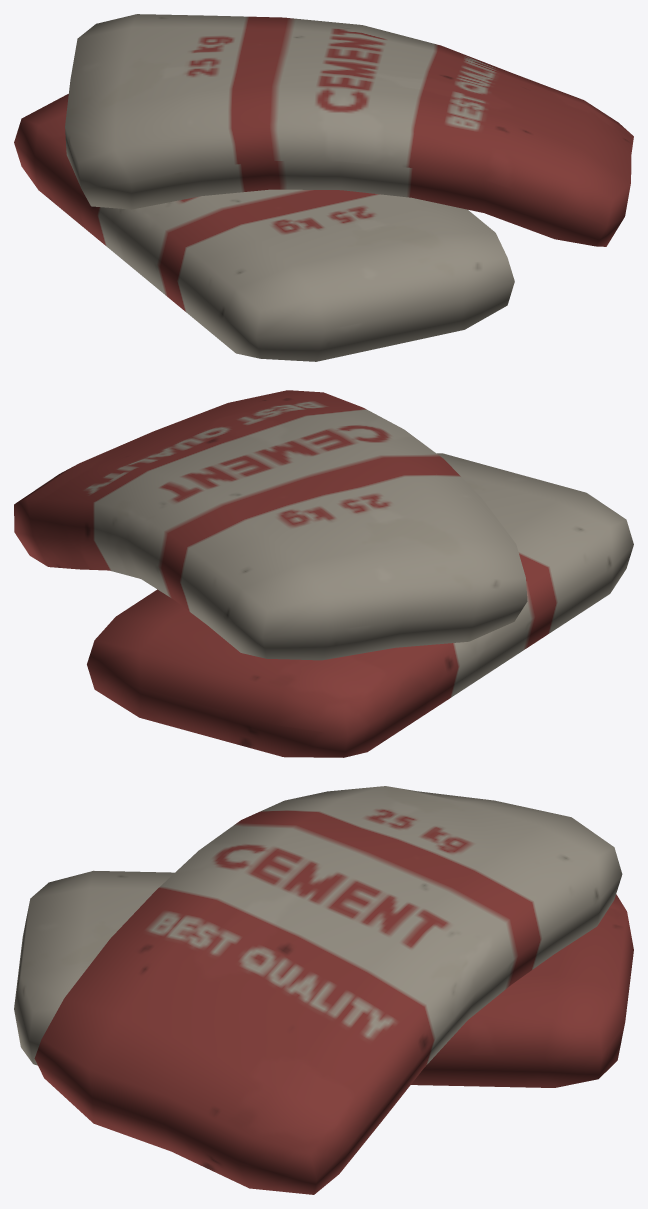
Rendered from Cement2.fbx.
The picture shows the model from 3 angles, top to bottom: view 1: azimuth 30°, elevation 25°; view 2: azimuth 150°, elevation 25°; view 3: azimuth 270°, elevation 25°; orthographic projection. The views are drawn at different scales.
Visible parts, largest first — view 1: polySurface1289; view 2: polySurface1289; view 3: polySurface1289.
Boxes of the visible parts, <box> form: polySurface1289: <box>14,14,633,361</box>; polySurface1289: <box>14,390,633,757</box>; polySurface1289: <box>14,786,633,1194</box>.
Size of the model in its own units: 114 by 37.53 by 107.
